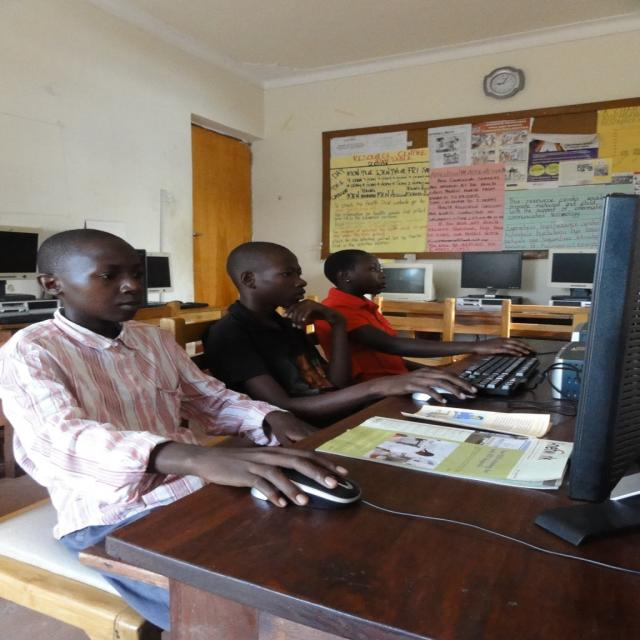desk: (83, 336, 640, 640)
keyboard: (456, 354, 542, 397)
mouse: (266, 469, 362, 509)
person: (0, 230, 349, 562), (201, 241, 475, 431), (318, 250, 526, 381)
tv: (564, 193, 639, 503), (460, 251, 523, 291), (377, 263, 435, 303), (548, 250, 597, 288), (0, 230, 39, 274), (138, 250, 172, 292)
